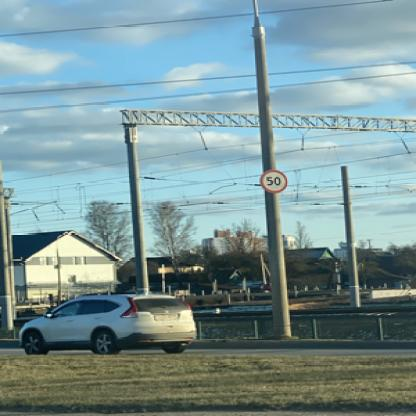Speed Limit 50: (260, 168, 288, 194)
